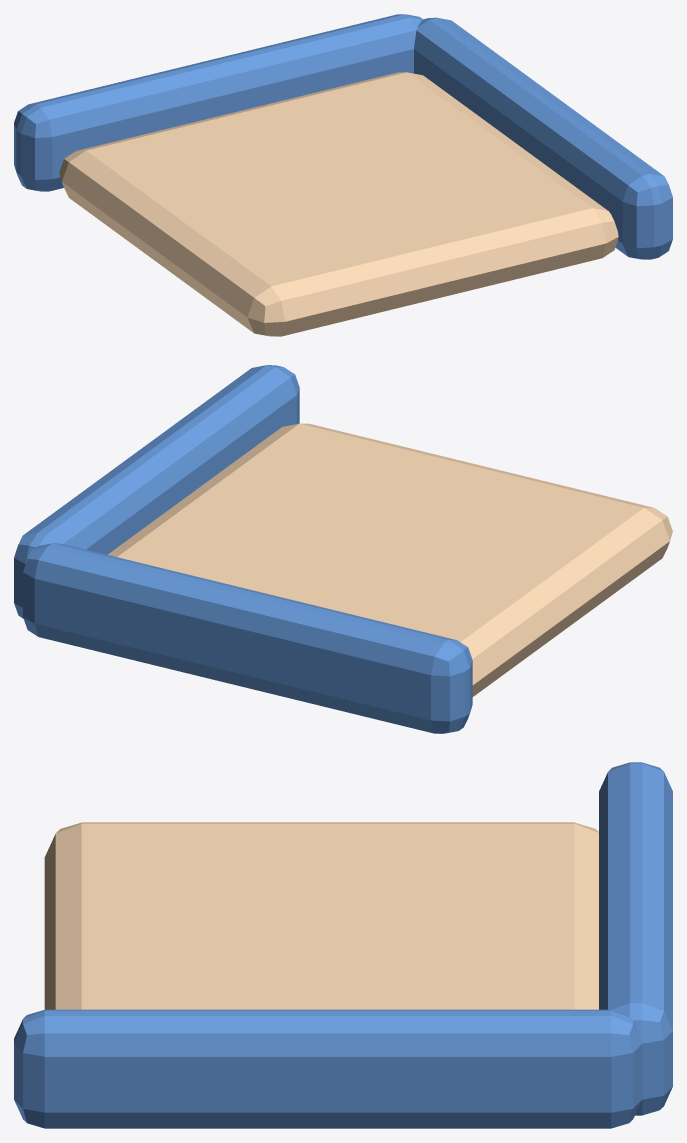
The model's file is PR3D_Tile_Corner.fbx.
3 renders of one model, top to bottom at view 1: azimuth 30°, elevation 25°; view 2: azimuth 150°, elevation 25°; view 3: azimuth 270°, elevation 25°, orthographic. The views are drawn at different scales.
Parts seen in each view (by area): view 1: Visual_CornerTile, Visual_CornerLipY, Visual_CornerLipX; view 2: Visual_CornerTile, Visual_CornerLipY, Visual_CornerLipX; view 3: Visual_CornerTile, Visual_CornerLipX, Visual_CornerLipY.
Boxes of the visible parts, <box> form: Visual_CornerTile: <box>59,72,618,336</box>; Visual_CornerLipY: <box>14,14,422,191</box>; Visual_CornerLipX: <box>414,17,672,259</box>; Visual_CornerTile: <box>107,423,672,696</box>; Visual_CornerLipY: <box>23,543,472,733</box>; Visual_CornerLipX: <box>14,365,299,618</box>; Visual_CornerTile: <box>44,822,598,1009</box>; Visual_CornerLipX: <box>14,1009,642,1128</box>; Visual_CornerLipY: <box>599,762,672,1115</box>.
Size of the model in its own units: 1.07 by 0.2 by 1.07.
